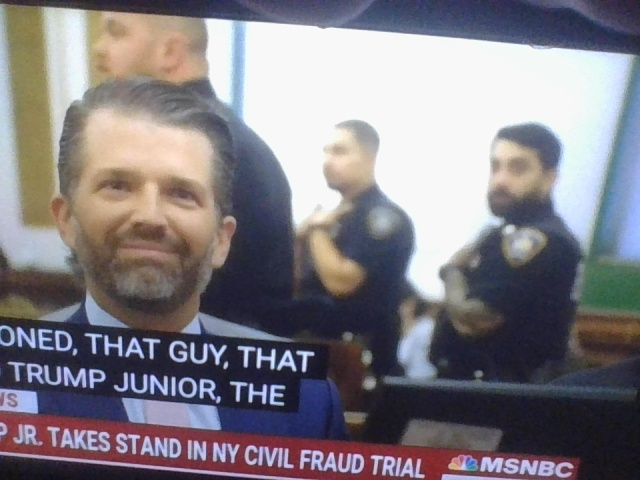fake: (63, 71, 237, 317)
